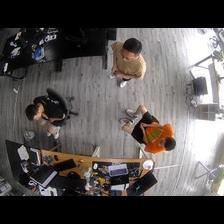normal: (119, 103, 178, 156), (26, 85, 75, 140), (109, 37, 147, 86)
